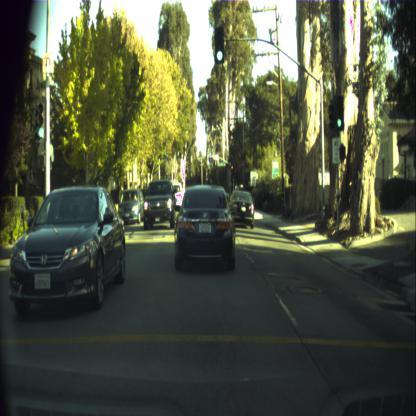Green: (214, 26, 224, 62), (335, 95, 344, 129), (37, 101, 45, 136)
Red: (230, 164, 234, 172)
